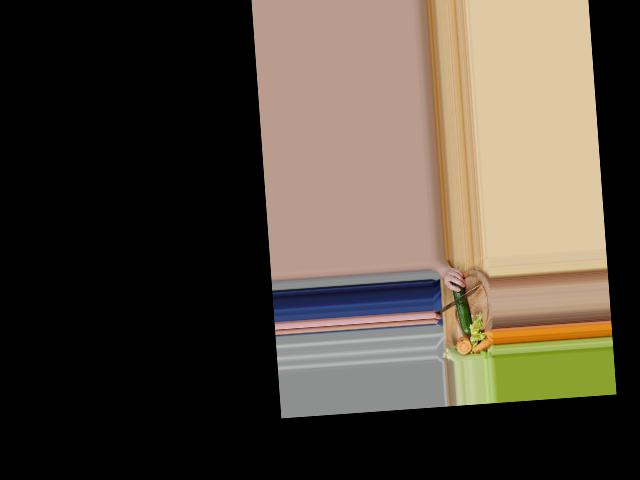cucumber: (451, 281, 472, 335)
